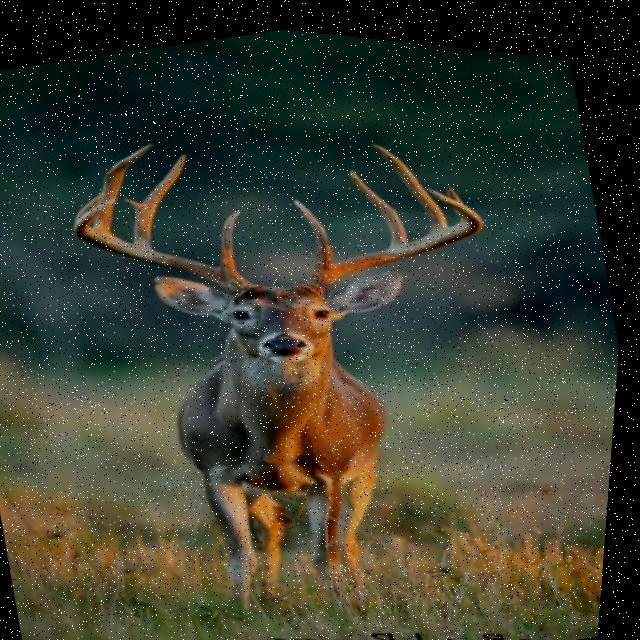E1: (125, 194, 147, 209)
L-F: (75, 195, 260, 290)
L-G1: (223, 204, 243, 265)
L-G2: (136, 149, 189, 245)
R-F: (300, 178, 486, 289)
R-G2: (350, 161, 410, 239), (295, 192, 337, 263)
R-G3: (369, 135, 451, 220)
